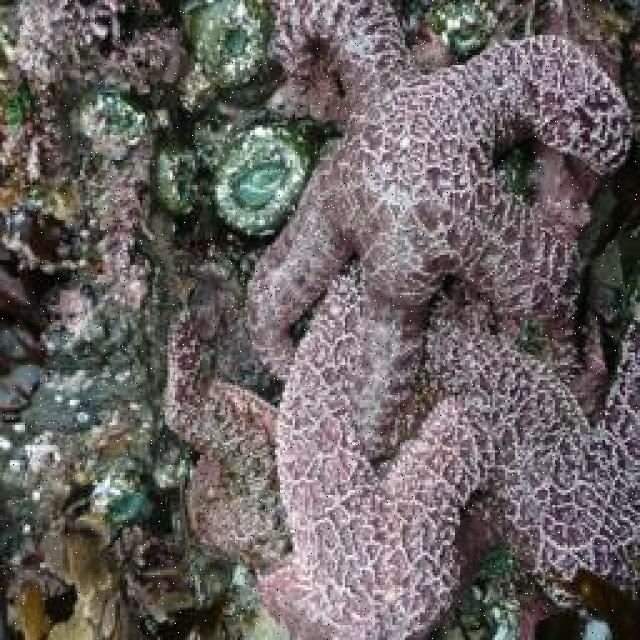reefs: (242, 0, 638, 463), (207, 264, 492, 638), (429, 290, 638, 614), (168, 318, 289, 566), (181, 0, 294, 113), (214, 119, 312, 238), (66, 94, 147, 158), (423, 1, 494, 55), (157, 141, 200, 214)
